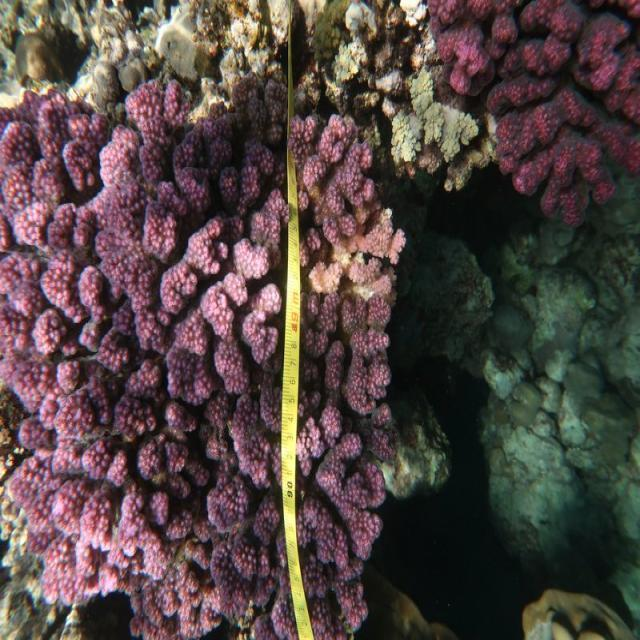Healthy Coral: (1, 66, 395, 640), (427, 0, 638, 216)
